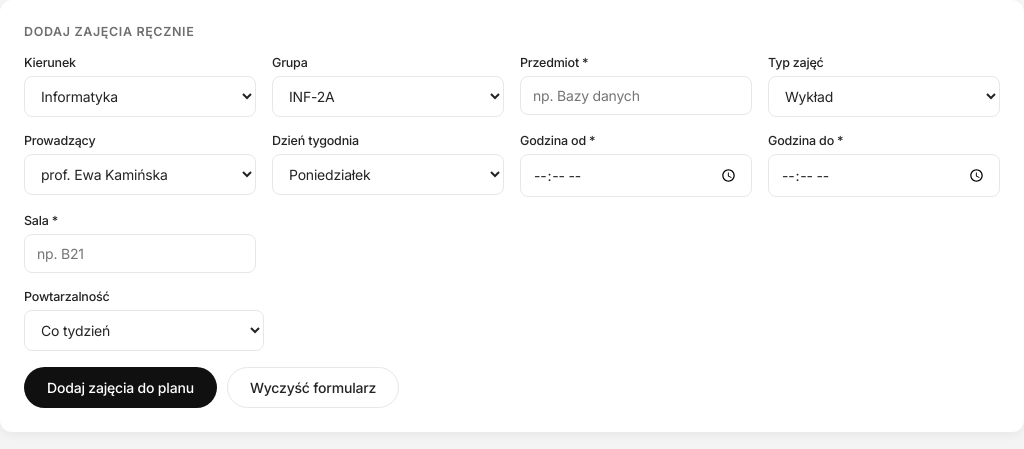
Test: ManualZajeciaForm › narrows groups to the selected programme
Select "Zarządzanie" in the dropdown labelled "Kierunek": (140, 96) [24,76,256,117]
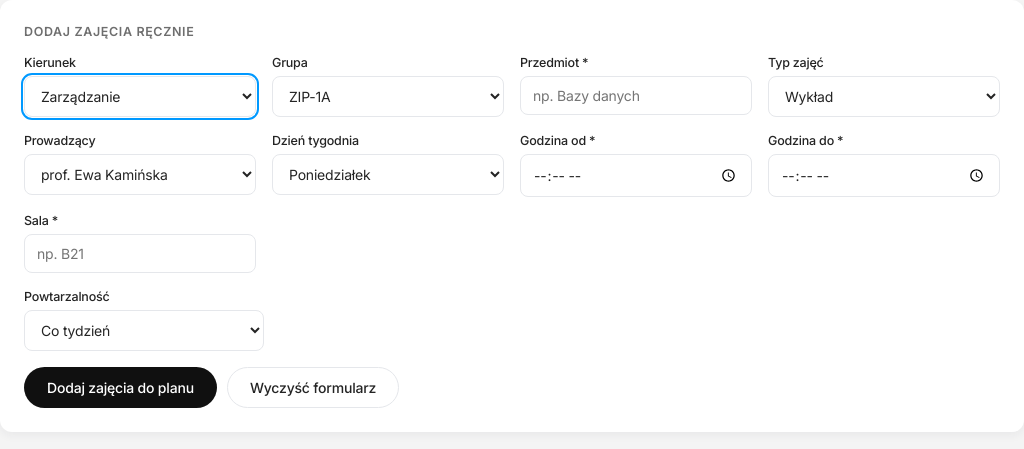
Expected: the dropdown labelled "Grupa" shows "ZIP-1A", [272,76,504,117]
